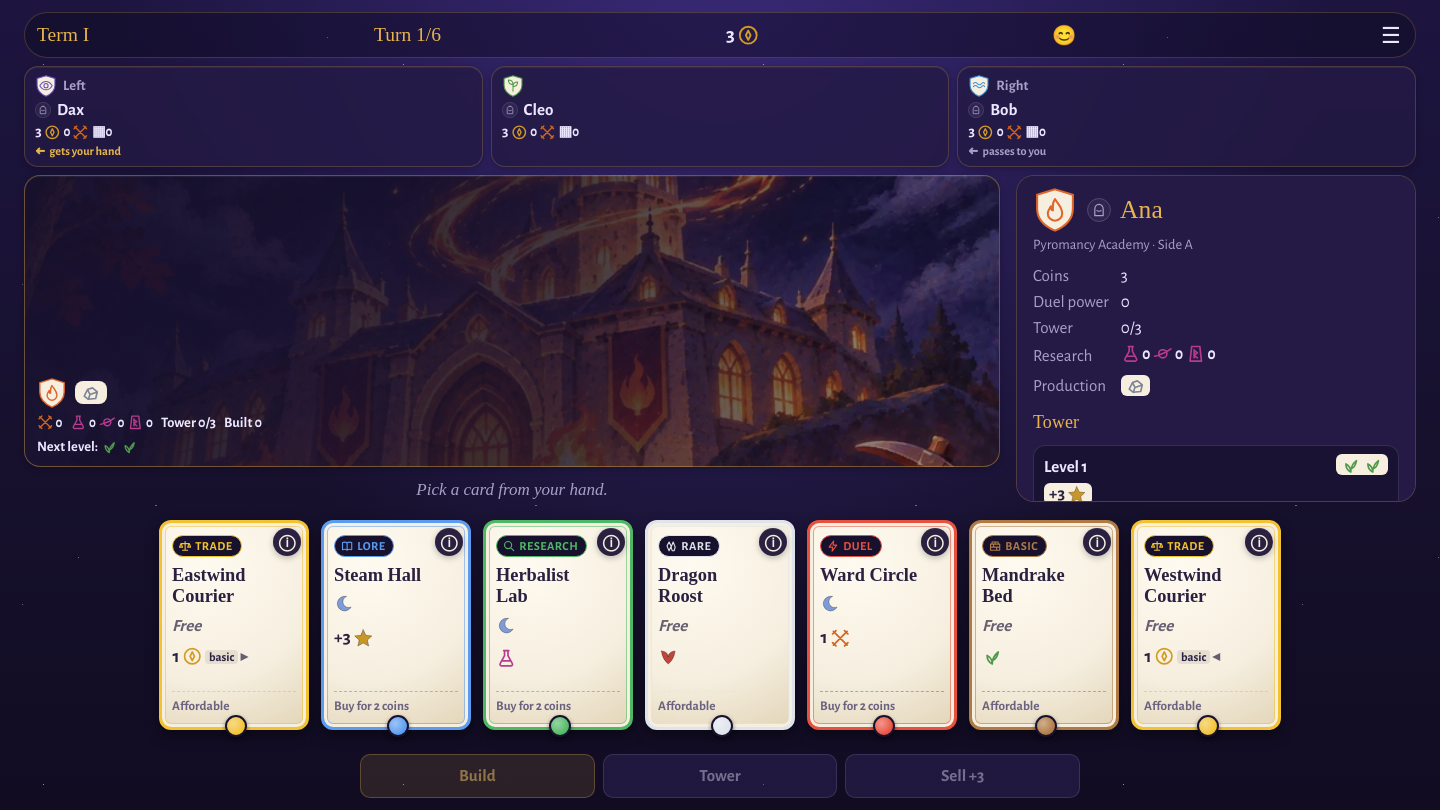
laptop layout › in a game: every opponent in a row and a side panel for the selected player
Expected: the heading "Ana" is shown, 1087,195 -> 1163,225
Click the button "Cleo 3 0 ▦0": click(513, 86) 491,66 -> 949,167
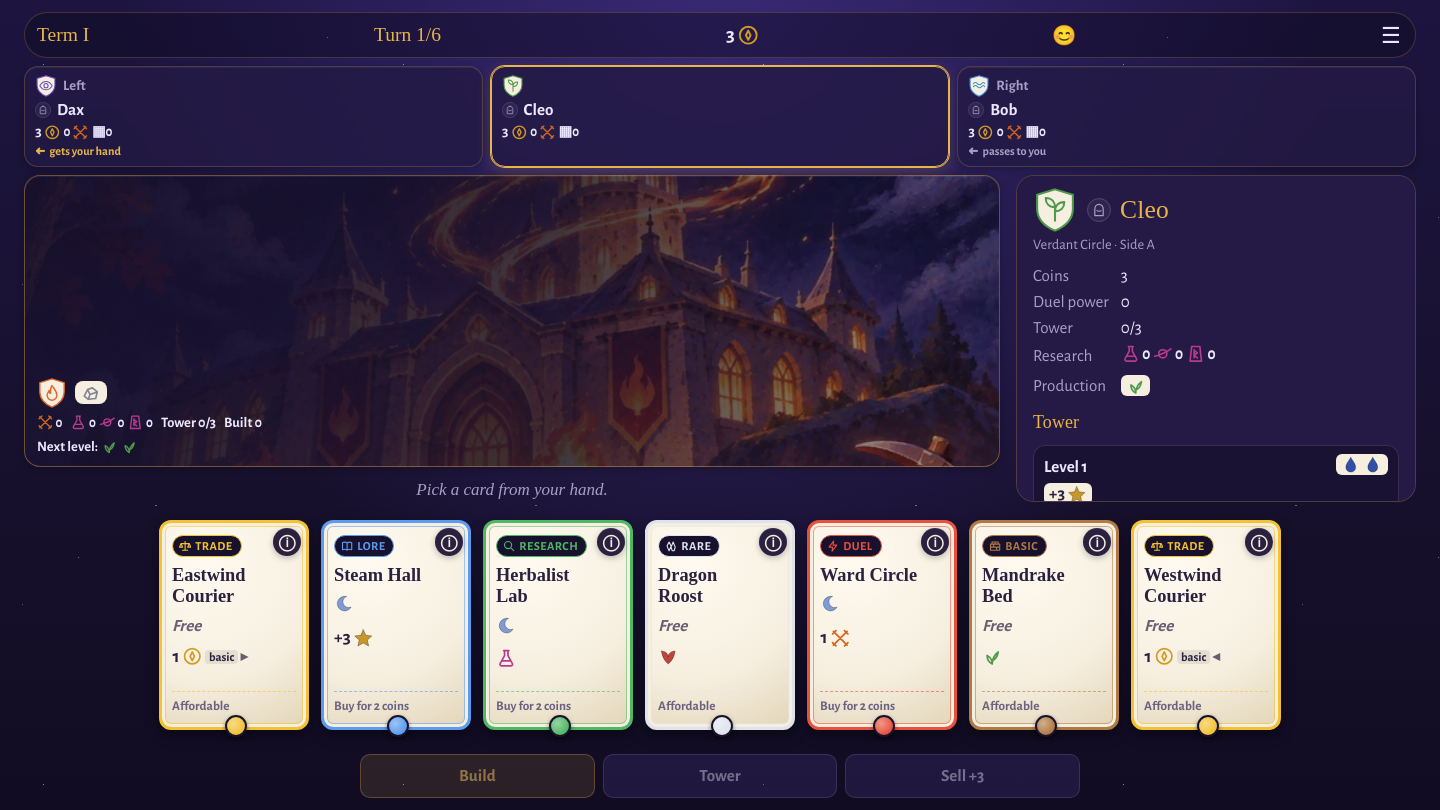
Now the heading "Cleo" is shown, box 1087,195 -> 1169,225
